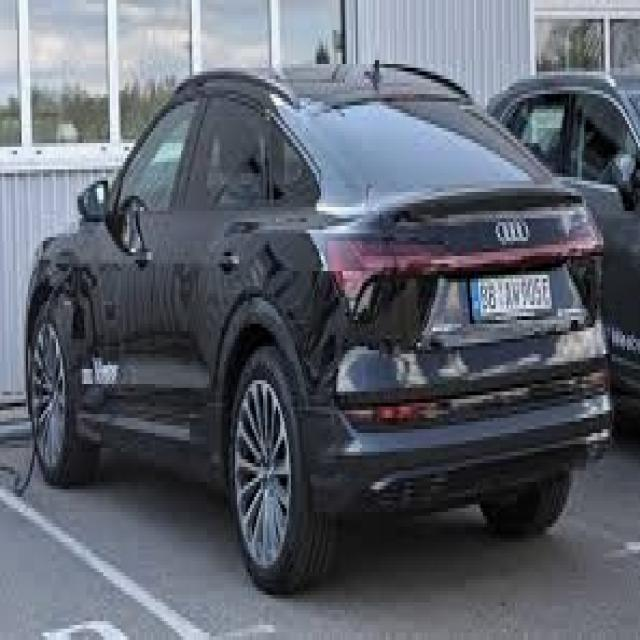black: (8, 61, 608, 563)
